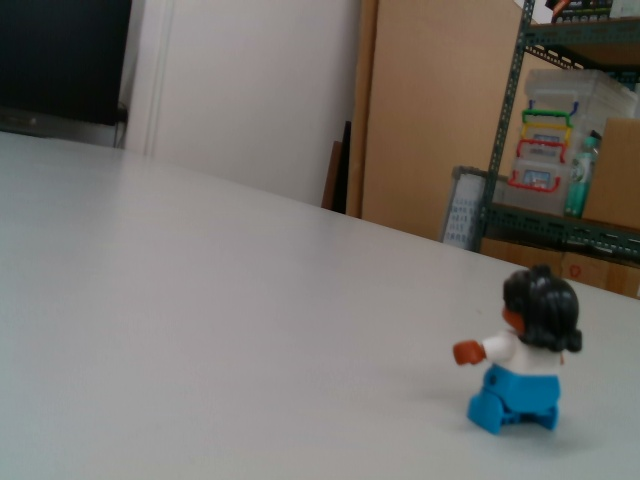people: (447, 265, 586, 433)
